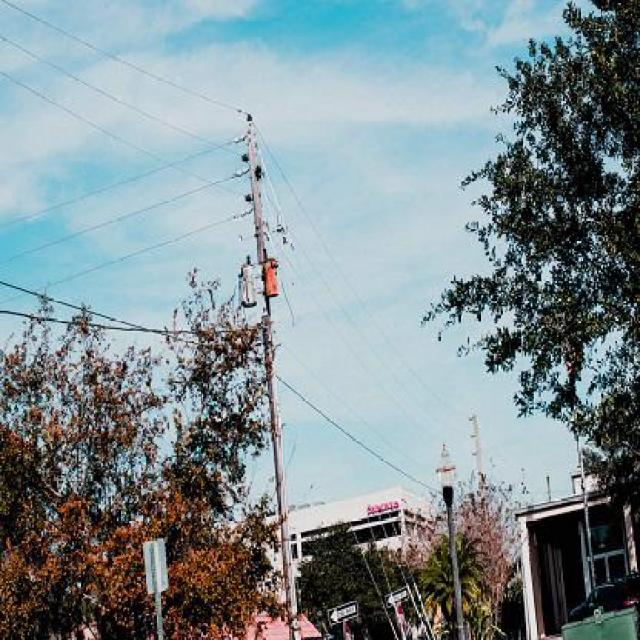pole: (202, 99, 320, 638)
